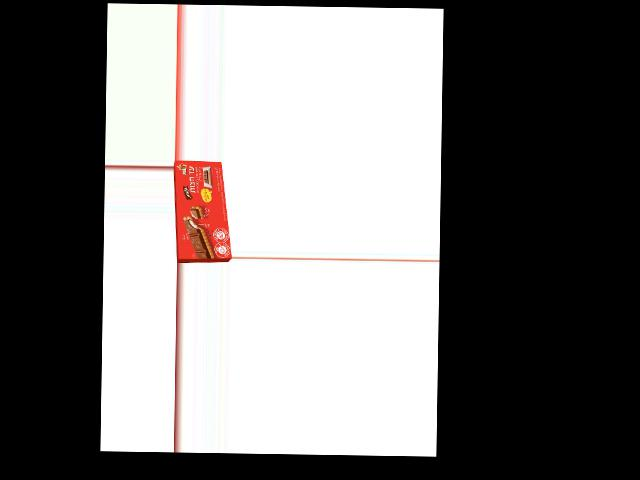chocolate: (176, 159, 227, 262)
